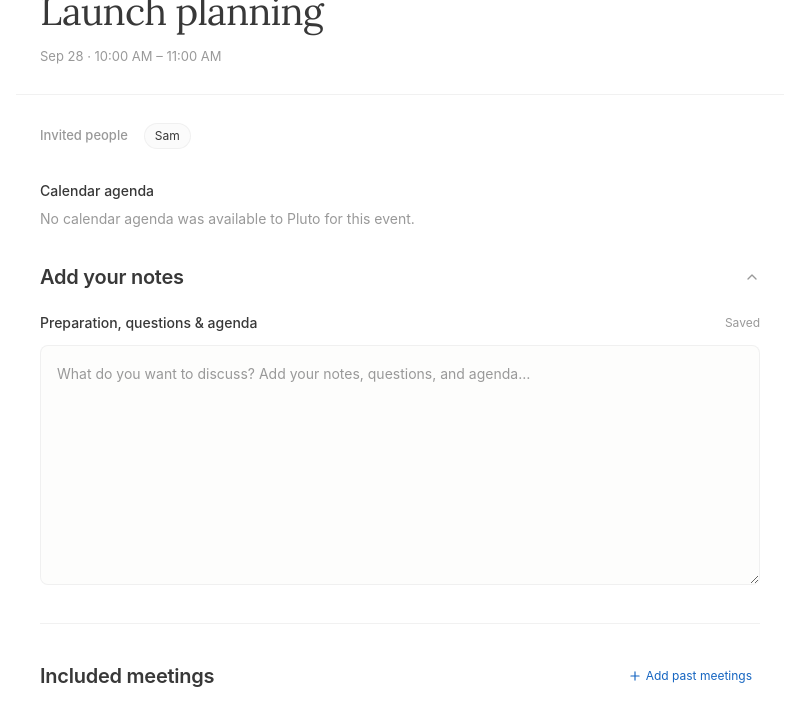
it: manually adds, opens sources, and removes past meeting references
Later steps or results of the test are not shown.
(page scrolled)
Click the button "Add past meetings": (690, 676) [620,660,760,692]
Wait 200 ms
(page scrolled)
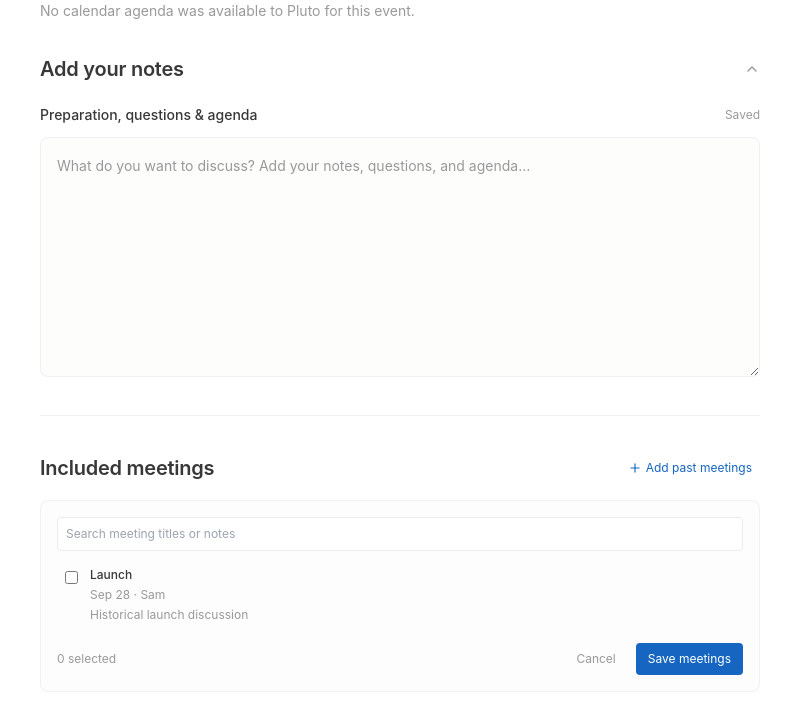
Click the checkbox named "Include Launch": (72, 577) [65,571,78,584]
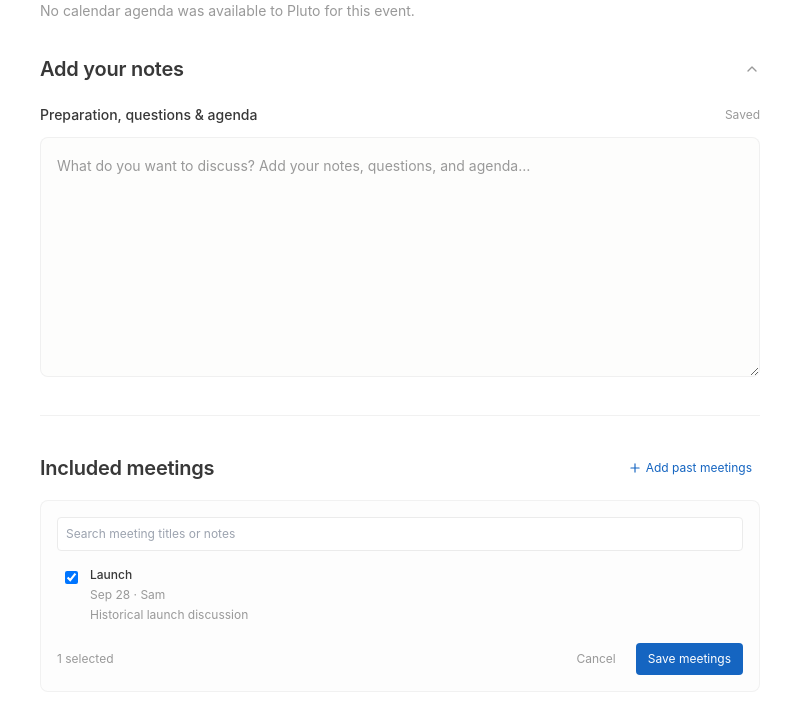
Click the button "Save meetings": (689, 659) [636,643,743,675]
(page scrolled)
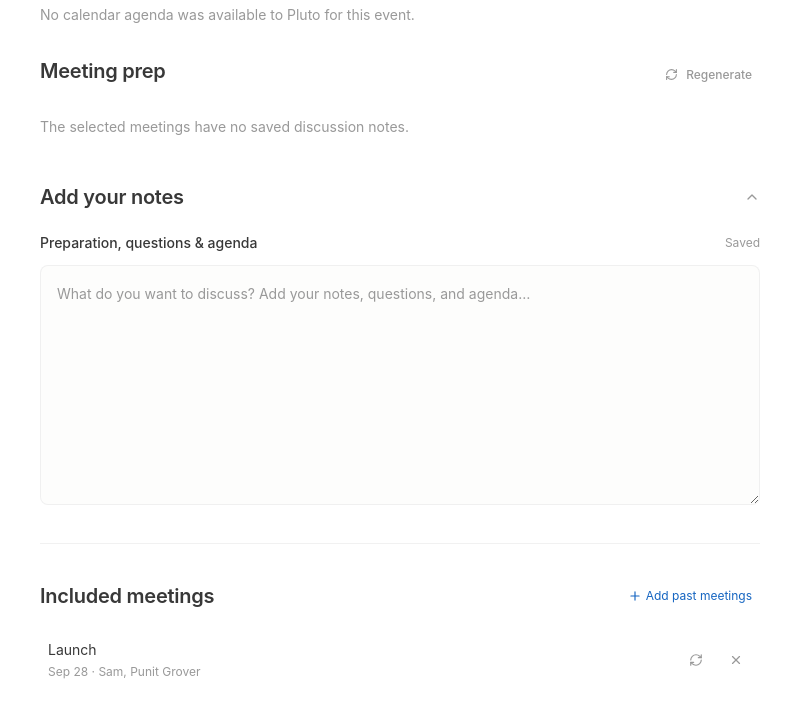
Click the button "Regenerate": (709, 75) [657,57,760,93]
(page scrolled)
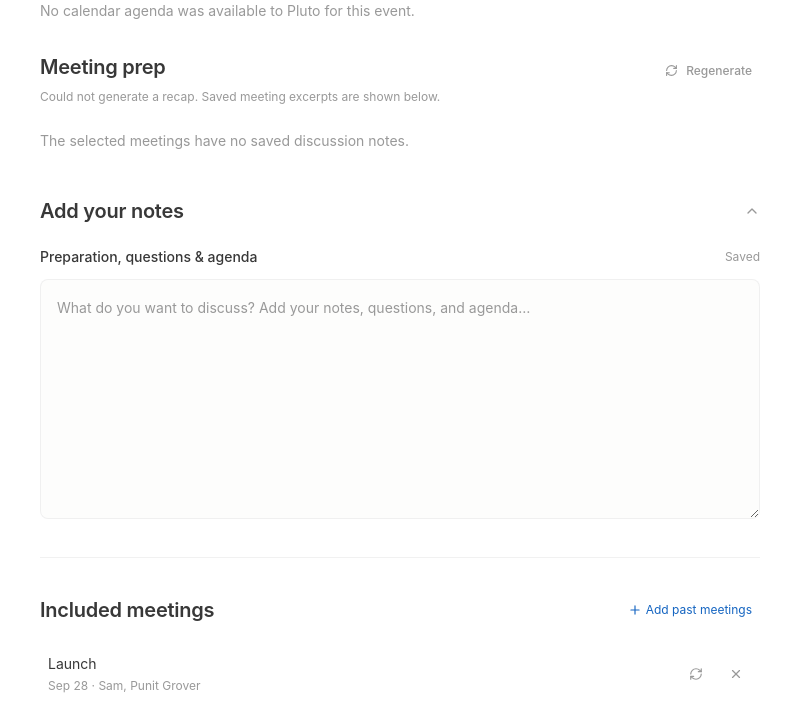
expect the text "Historical launch discussion" is not shown: met
expect the text "Sam, Punit Grover" is shown: met, box [88,678,200,693]
Click the button "Add past meetings": (690, 610) [620,594,760,626]
(page scrolled)
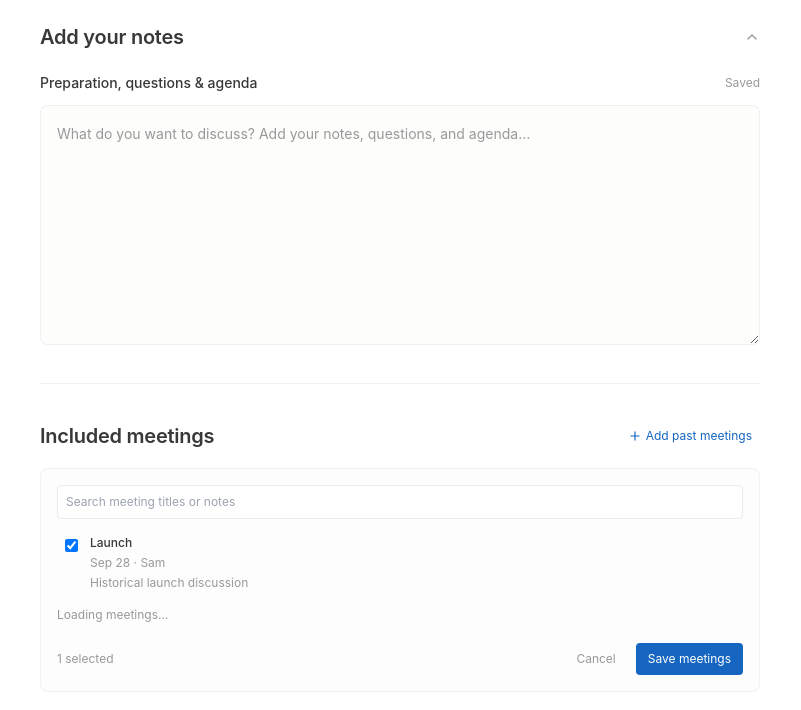
Click the button "Cancel": (596, 659) [564,643,628,675]
(page scrolled)
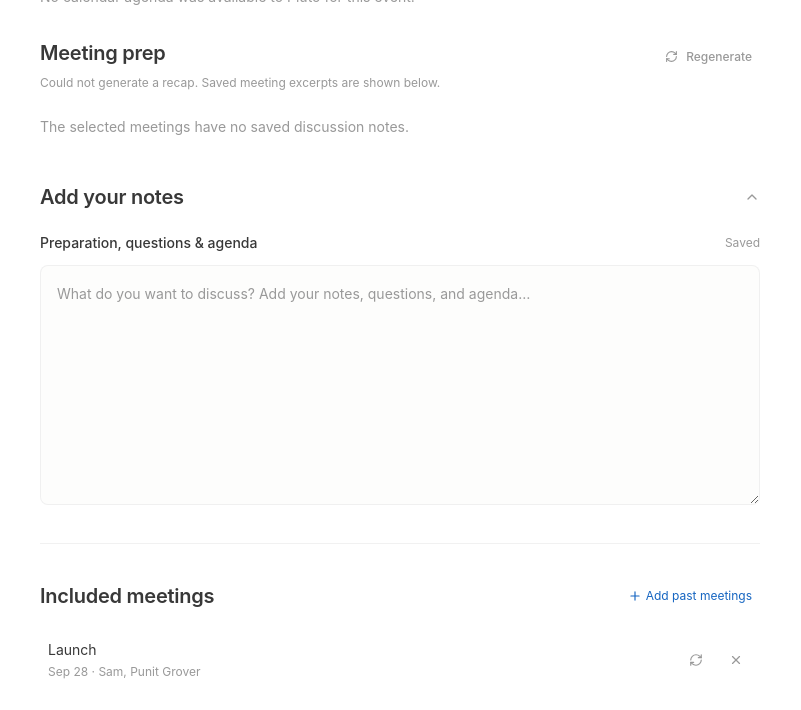
expect the button with aria-label "Open meeting: Launch" is shown: met, box [40,628,672,692]
